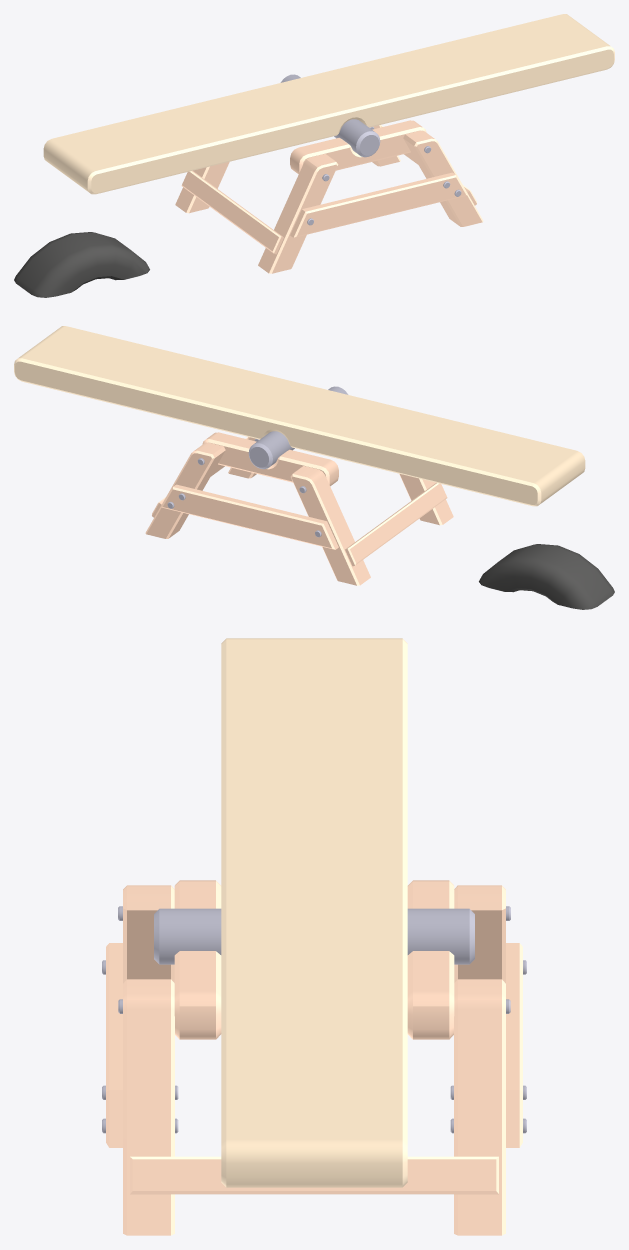
File: Seesaw.fbx
The picture shows the model from 3 angles, top to bottom: view 1: azimuth 30°, elevation 25°; view 2: azimuth 150°, elevation 25°; view 3: azimuth 270°, elevation 25°; orthographic projection. The views are drawn at different scales.
Parts seen in each view (by area): view 1: plank, base; view 2: plank, base; view 3: plank, base.
Part boxes in pixels (x1,y1,x2,y2): plank: [43, 14, 614, 194]; base: [14, 74, 483, 297]; plank: [14, 326, 585, 506]; base: [145, 386, 614, 609]; plank: [221, 638, 407, 1187]; base: [102, 880, 526, 1235].
Size of the model in its own units: 6.25 by 1.28 by 2.02.
